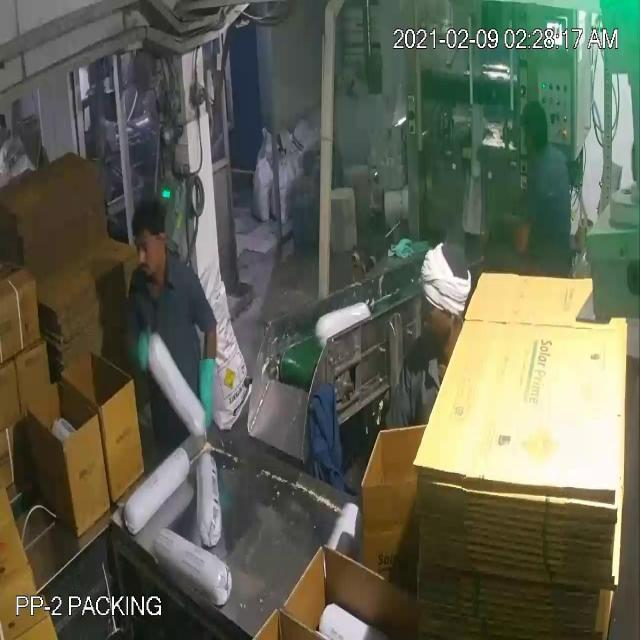Gloves: (34, 52, 205, 392)
